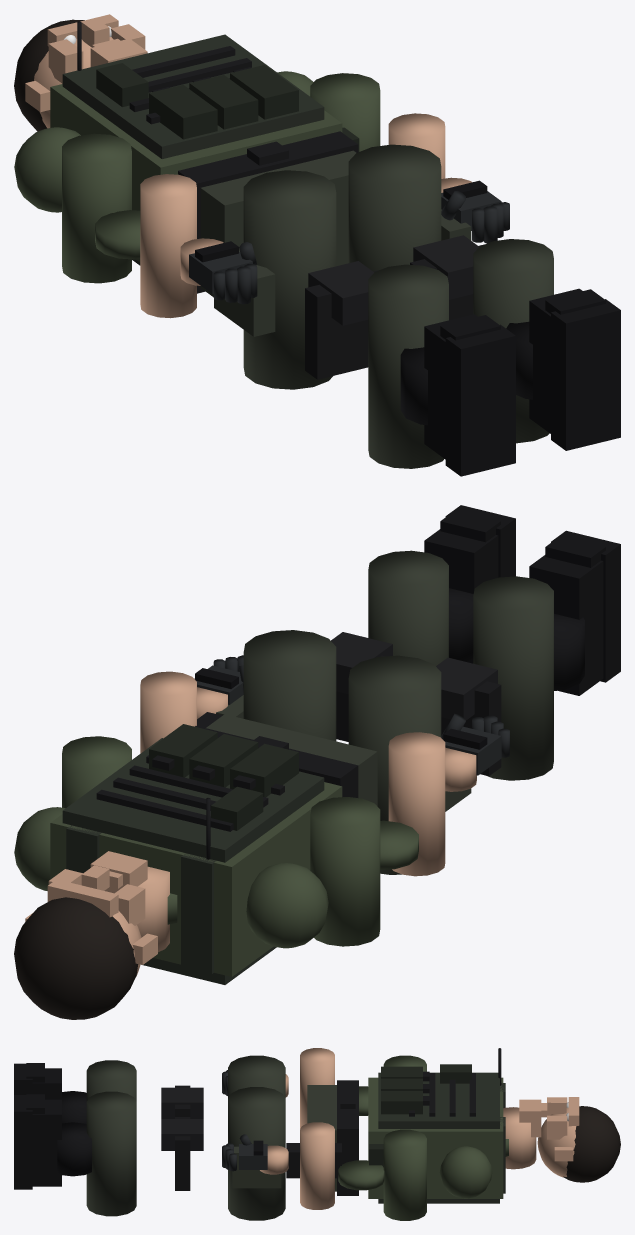
Rendered from player_soldier.obj.
3 renders of one model, top to bottom at view 1: azimuth 30°, elevation 25°; view 2: azimuth 150°, elevation 25°; view 3: azimuth 270°, elevation 25°, orthographic. The views are drawn at different scales.
Parts seen in each view (by area): view 1: PlayerSoldier; view 2: PlayerSoldier; view 3: PlayerSoldier.
Part boxes in pixels (<box>): PlayerSoldier: <box>14,14,620,476</box>; PlayerSoldier: <box>14,505,620,1019</box>; PlayerSoldier: <box>14,1048,620,1220</box>.
Size of the model in its own units: 0.6545 by 0.41 by 1.8.
